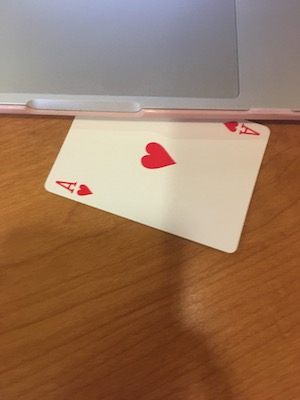AceOfHearts: (36, 107, 273, 257)
